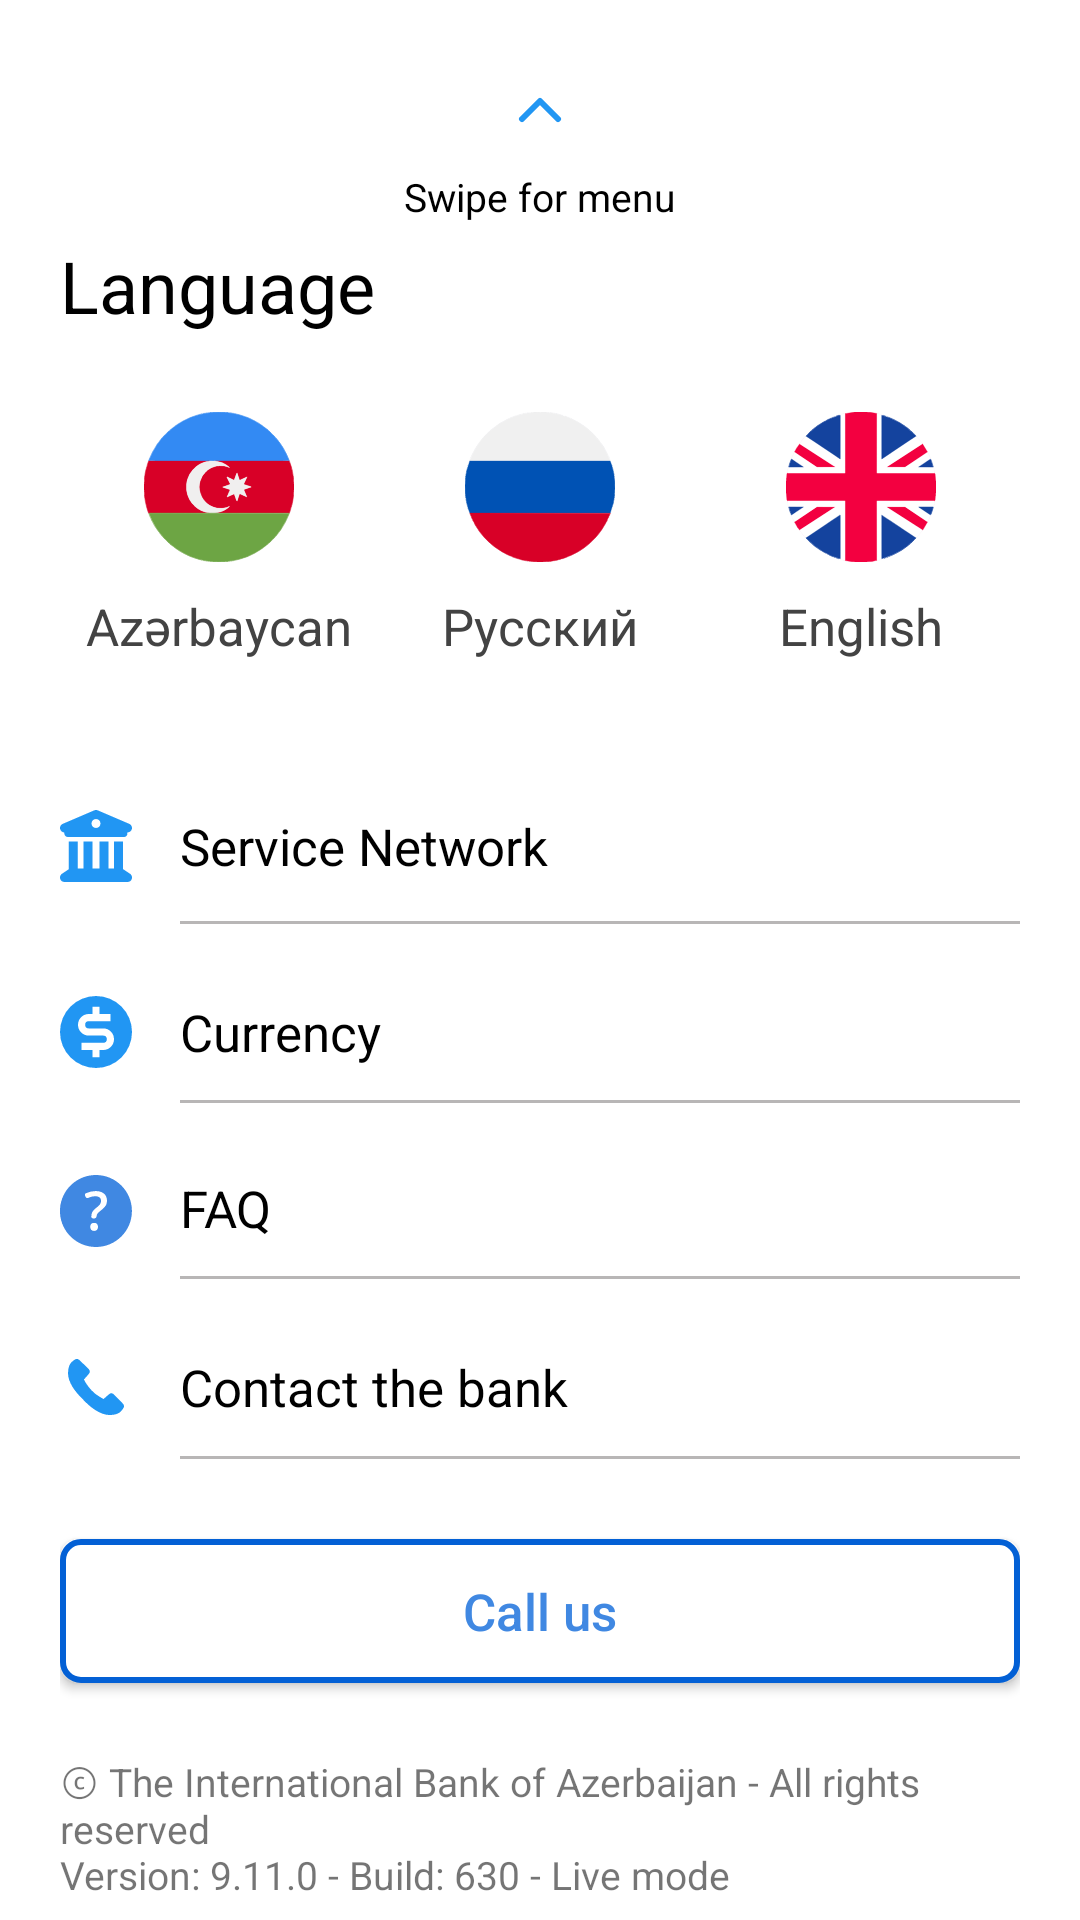

Icon bounding boxes for this 1080w x 1920h phone screenshot, format region(x1, y1, x2, y2):
arrow: region(519, 98, 561, 122)
aze flag: region(144, 412, 294, 562)
